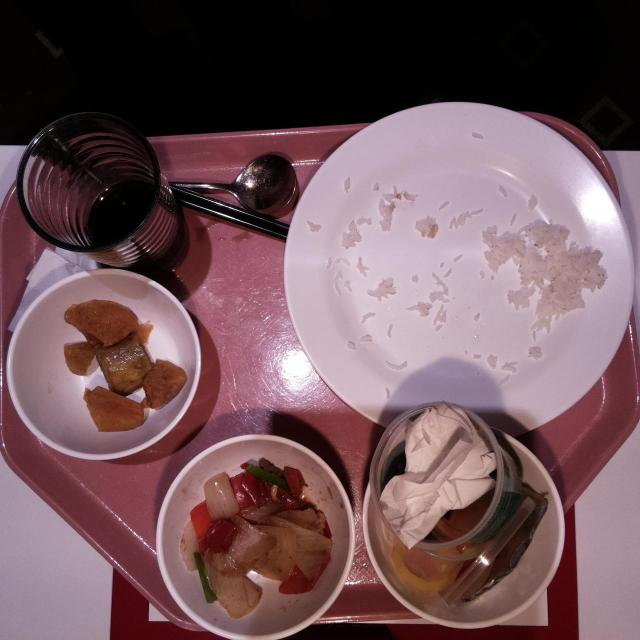Potato: (61, 299, 187, 435)
Rice: (490, 219, 608, 321)
Vegetable: (191, 552, 218, 606)
